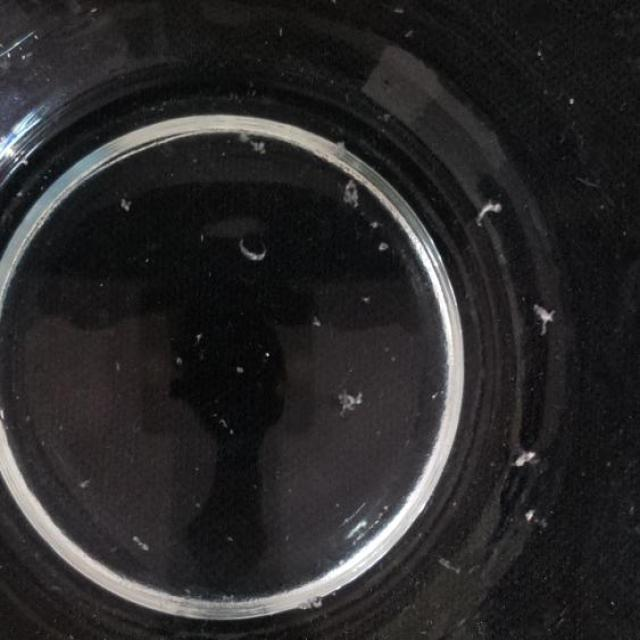fiber: (234, 123, 271, 166), (238, 230, 271, 266), (532, 294, 554, 336), (339, 388, 367, 415), (132, 531, 156, 561), (479, 199, 503, 226), (342, 177, 359, 214), (516, 447, 542, 470), (374, 239, 395, 258), (118, 199, 136, 215), (526, 510, 538, 522)
